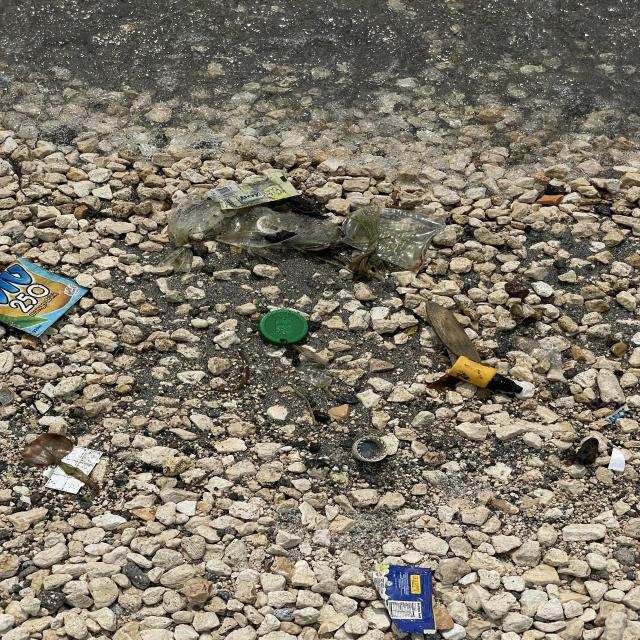plastic_waste: (1, 257, 89, 336), (347, 207, 448, 272), (373, 566, 441, 637), (209, 175, 304, 212), (259, 312, 311, 348), (353, 436, 389, 465)
